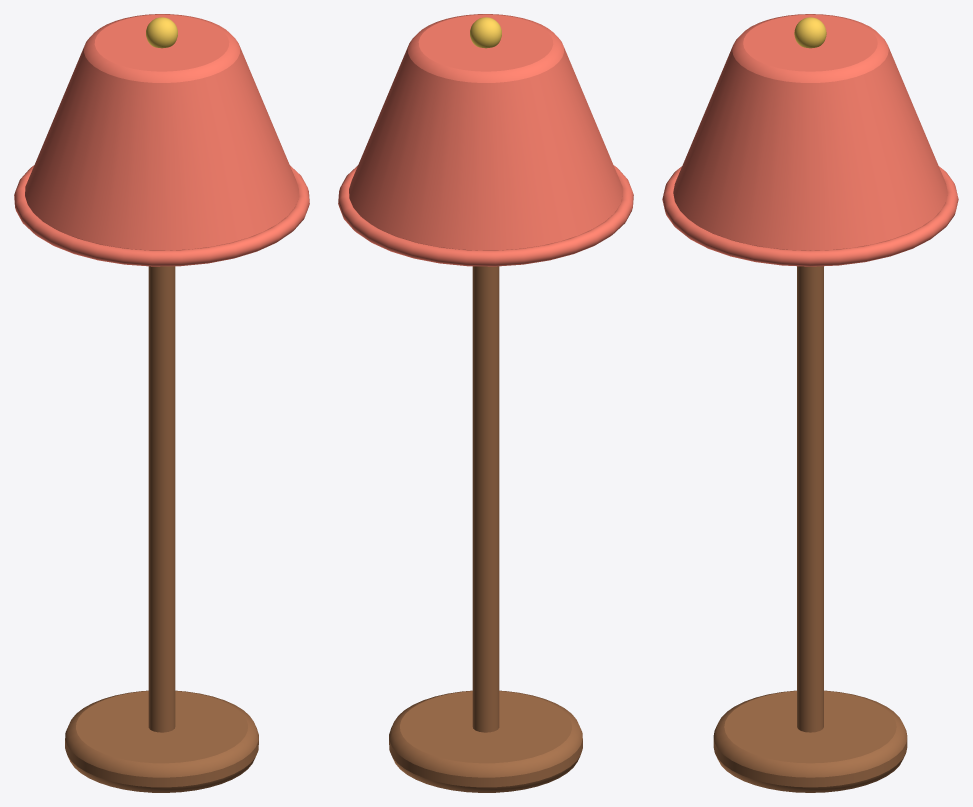
The model's file is prop-floorlamp.glb.
The picture shows the model from 3 angles, left to right: view 1: azimuth 30°, elevation 25°; view 2: azimuth 150°, elevation 25°; view 3: azimuth 270°, elevation 25°; orthographic projection.
Visible parts, largest first — view 1: Shade, Base, Pole, ShadeRim, Finial; view 2: Shade, Base, Pole, ShadeRim, Finial; view 3: Shade, Base, Pole, ShadeRim, Finial.
Part boxes in pixels (x1=…): Shade: x1=25, y1=14, x2=298, y2=250; Base: x1=65, y1=690, x2=258, y2=792; Pole: x1=148, y1=266, x2=175, y2=732; ShadeRim: x1=14, y1=165, x2=309, y2=266; Finial: x1=146, y1=17, x2=177, y2=48; Shade: x1=349, y1=14, x2=622, y2=250; Base: x1=389, y1=690, x2=582, y2=792; Pole: x1=472, y1=266, x2=499, y2=732; ShadeRim: x1=338, y1=165, x2=633, y2=266; Finial: x1=470, y1=17, x2=501, y2=48; Shade: x1=673, y1=14, x2=947, y2=250; Base: x1=713, y1=690, x2=907, y2=792; Pole: x1=797, y1=266, x2=823, y2=732; ShadeRim: x1=662, y1=166, x2=958, y2=266; Finial: x1=794, y1=17, x2=826, y2=48.
Bounding box in the file's own units: 0.55 × 1.51 × 0.55.
